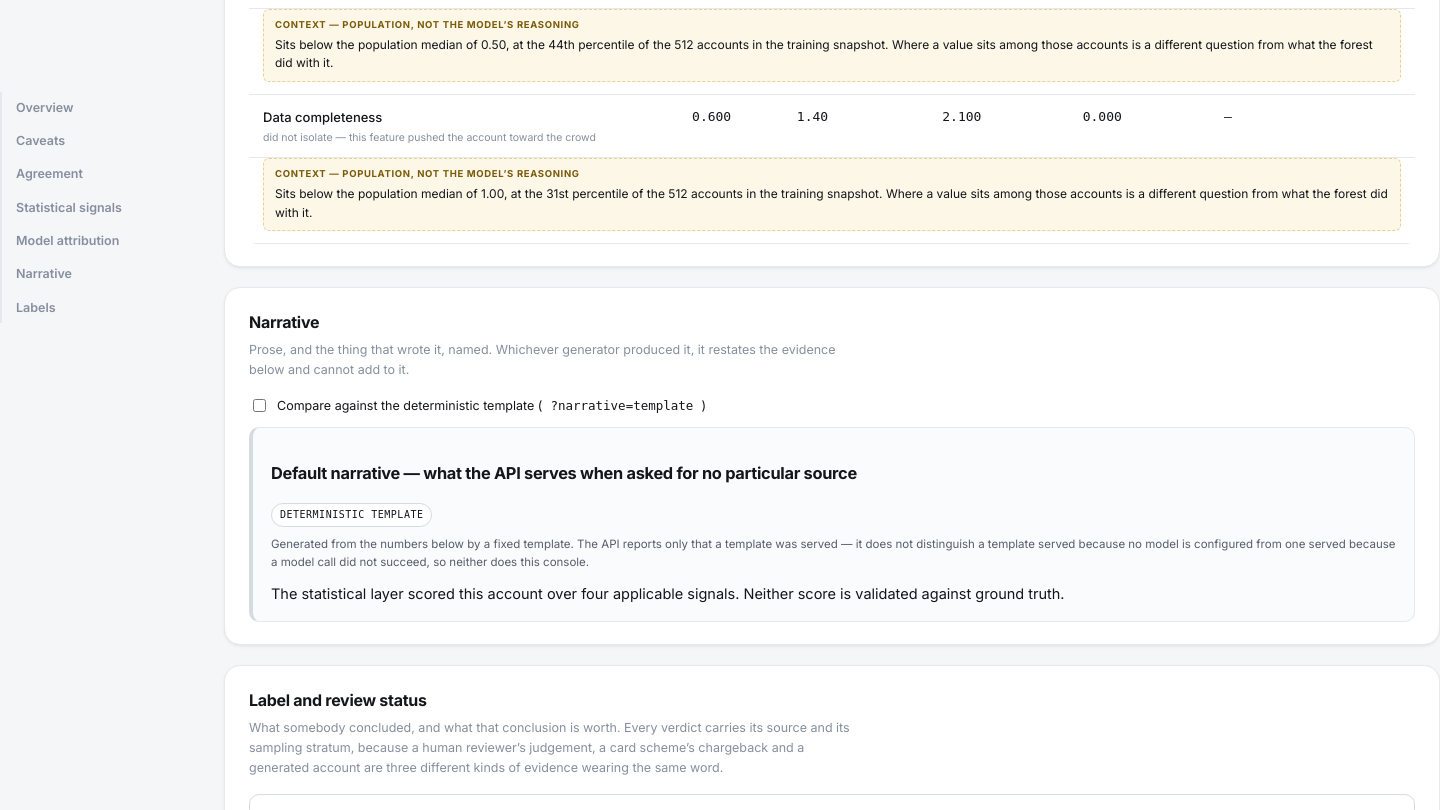
AccountPage › shows the template alongside the default when asked to compare
(page scrolled)
Expected: the text "does not distinguish a template served" is shown, [271, 537, 1396, 569]
Click the checkbox labelled "Compare against the deterministic template".
click(260, 406)  # box [253, 399, 266, 412]
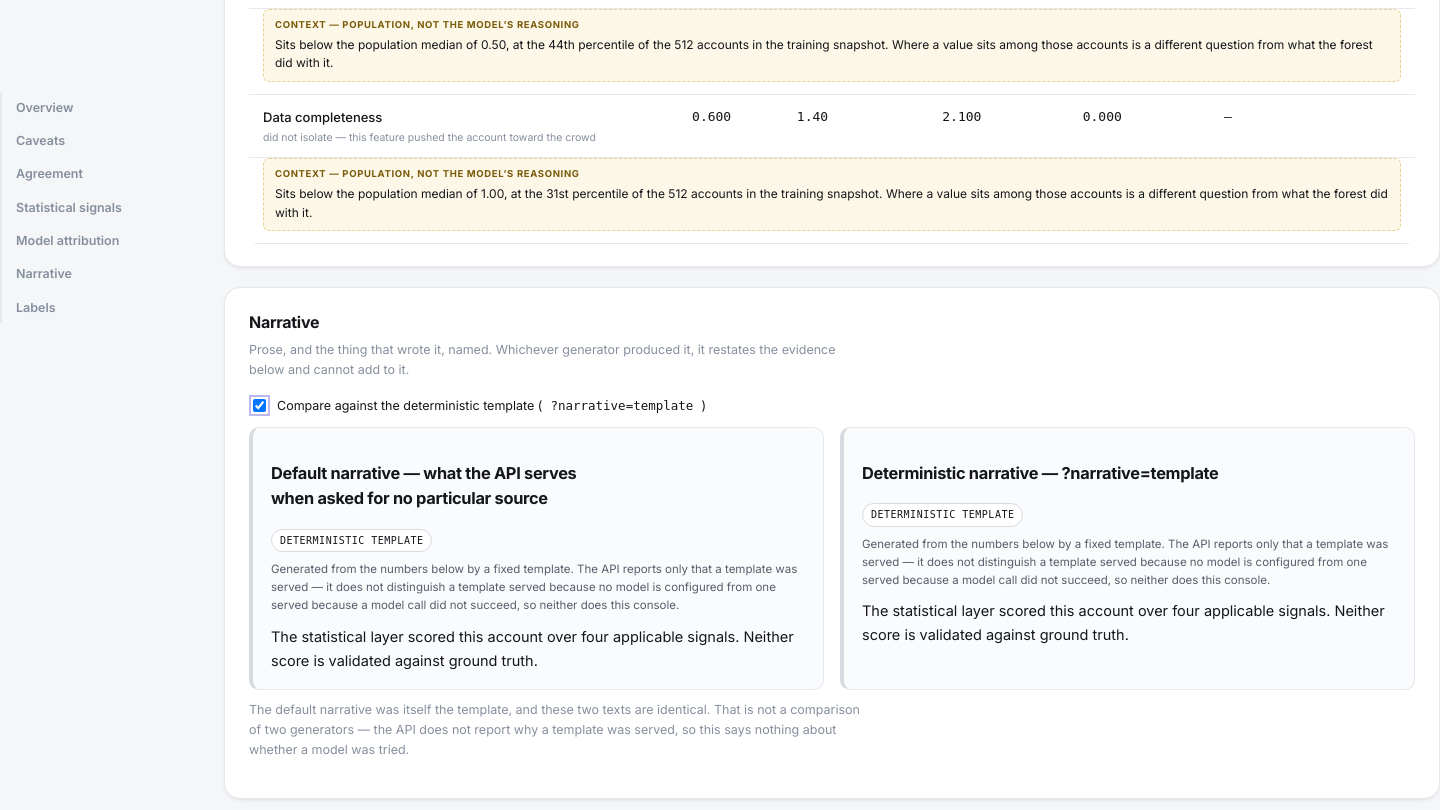
Expected: the text "The default narrative was itself the template" is shown, [249, 702, 508, 716]
